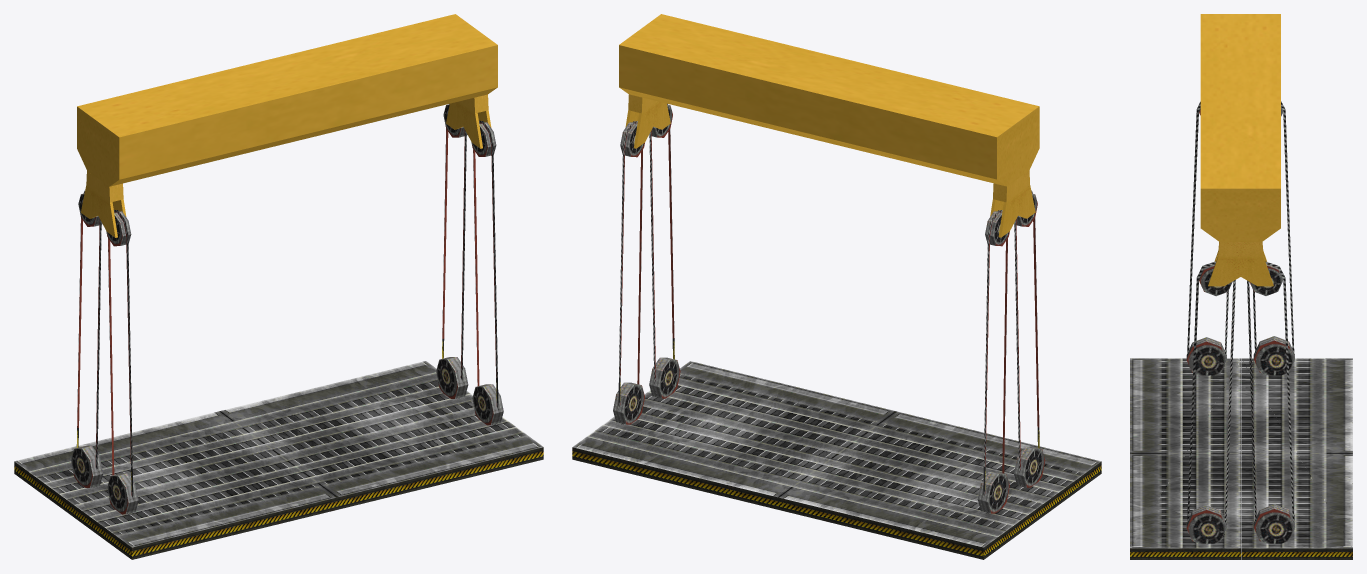
File: Hanging_Platform-1.FBX
3 views of the same model, side by side, from view 1: azimuth 30°, elevation 25°; view 2: azimuth 150°, elevation 25°; view 3: azimuth 270°, elevation 25° (orthographic). The views are drawn at different scales.
Parts seen in each view (by area): view 1: Object002, Object003, Object001; view 2: Object002, Object001, Object003; view 3: Object002, Object003, Object001.
Part boxes in pixels (x1=…): Object002: x1=71, y1=14, x2=503, y2=514; Object003: x1=73, y1=406, x2=543, y2=559; Object001: x1=14, y1=361, x2=473, y2=516; Object002: x1=613, y1=14, x2=1045, y2=513; Object001: x1=572, y1=407, x2=1042, y2=559; Object003: x1=643, y1=361, x2=1101, y2=516; Object002: x1=1186, y1=14, x2=1294, y2=543; Object003: x1=1130, y1=358, x2=1241, y2=559; Object001: x1=1241, y1=358, x2=1352, y2=559.
Size of the model in its own units: 85.87 by 77.55 by 42.58.
Materials: 2 (2 with a texture image).
